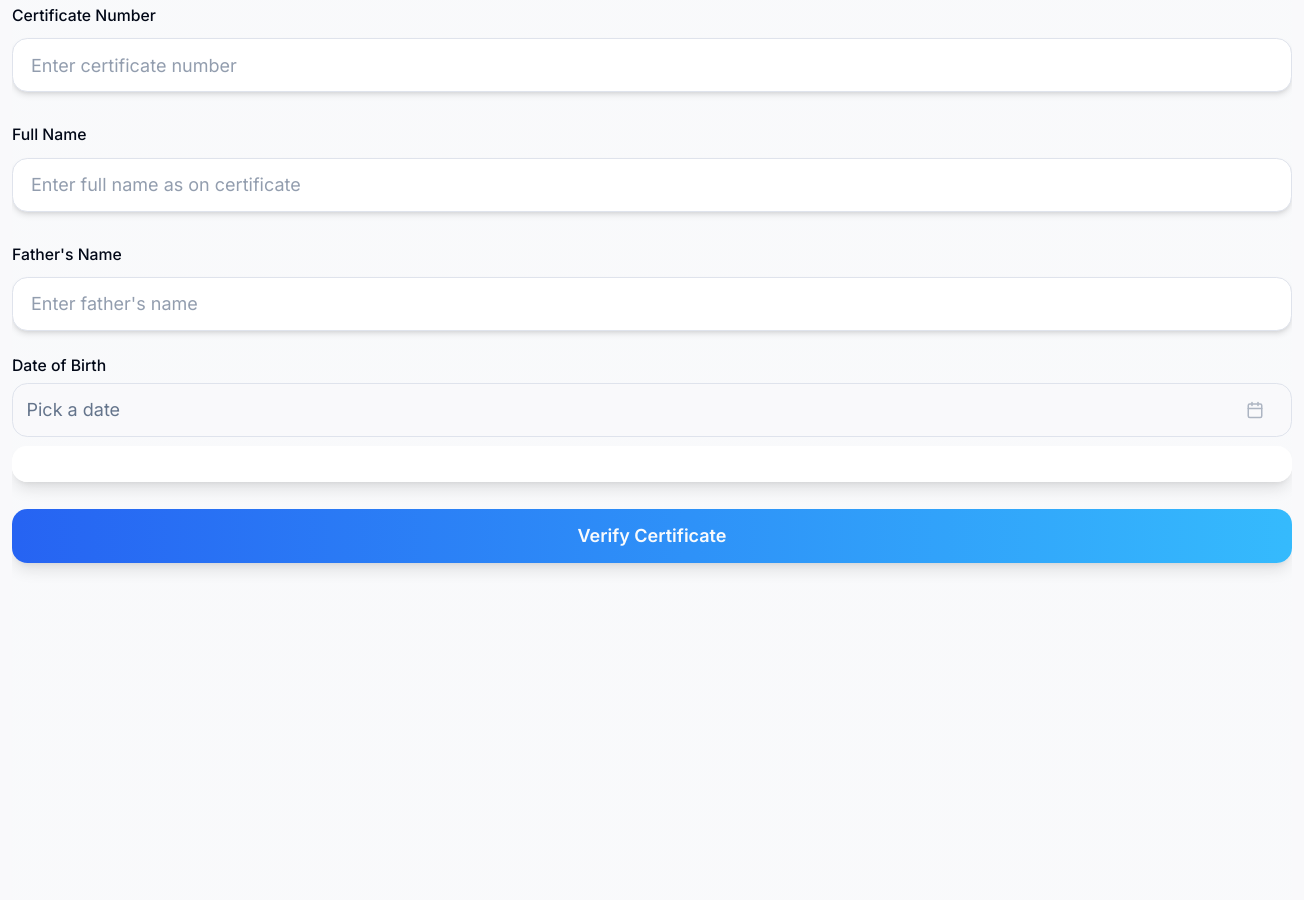
Test case: CertificateVerificationForm › shows validation errors for empty fields
The width and height of the screenshot is (1304, 900).
Click the button "Verify Certificate". click: (652, 536)
box: x1=12 y1=508 x2=1292 y2=562
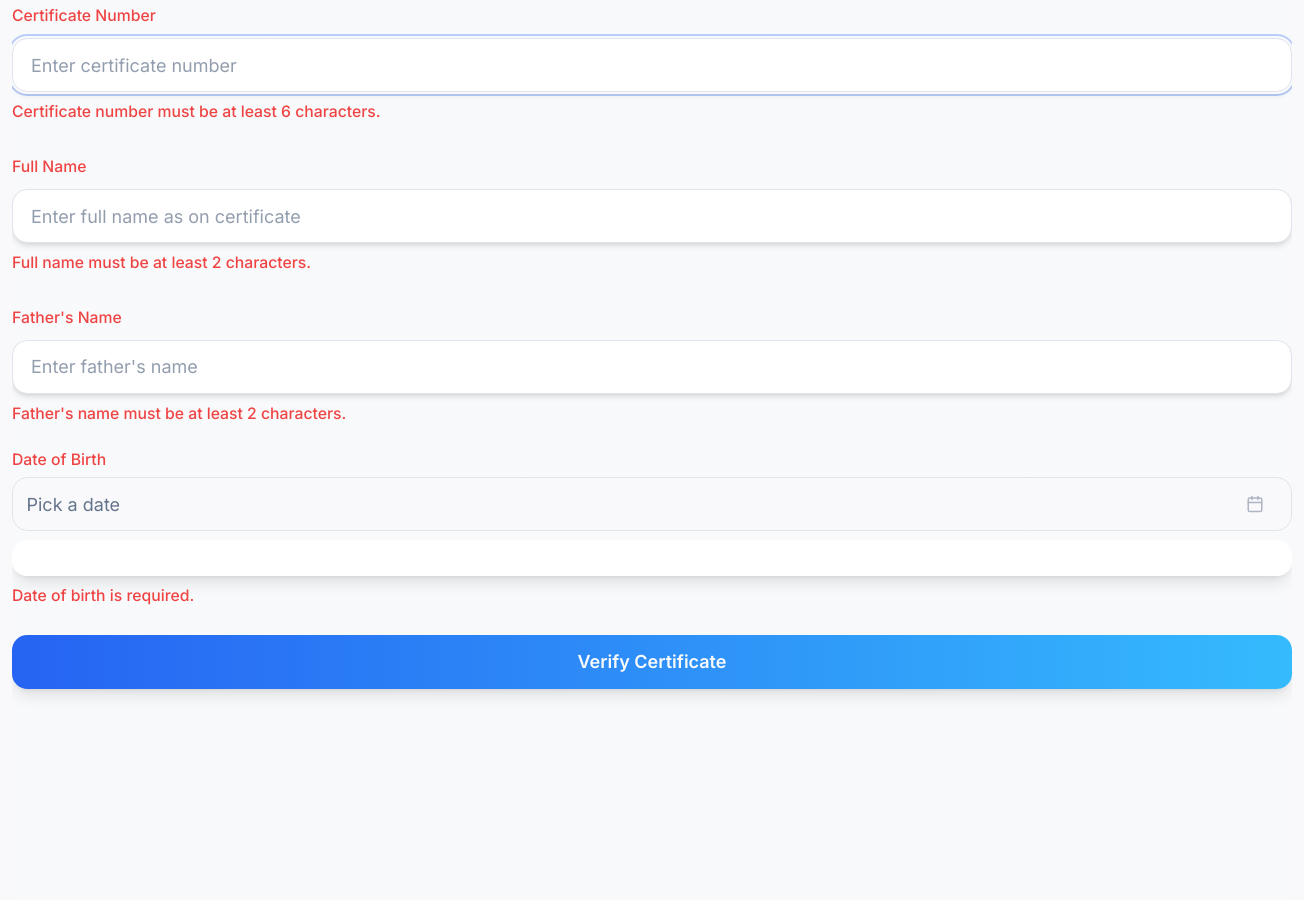
Now the text "Certificate number must be at least 6 characters." is shown, box x1=12 y1=102 x2=381 y2=121
Now the text "Full name must be at least 2 characters." is shown, box x1=12 y1=253 x2=311 y2=272
Now the text "Father's name must be at least 2 characters." is shown, box x1=12 y1=404 x2=346 y2=423
